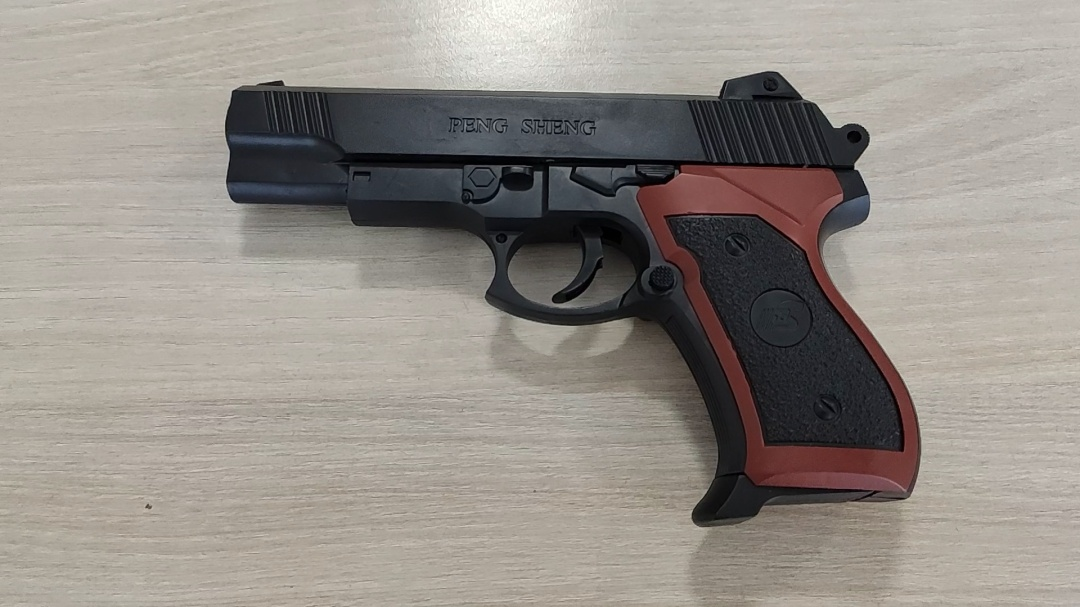gun: (497, 185, 611, 334)
